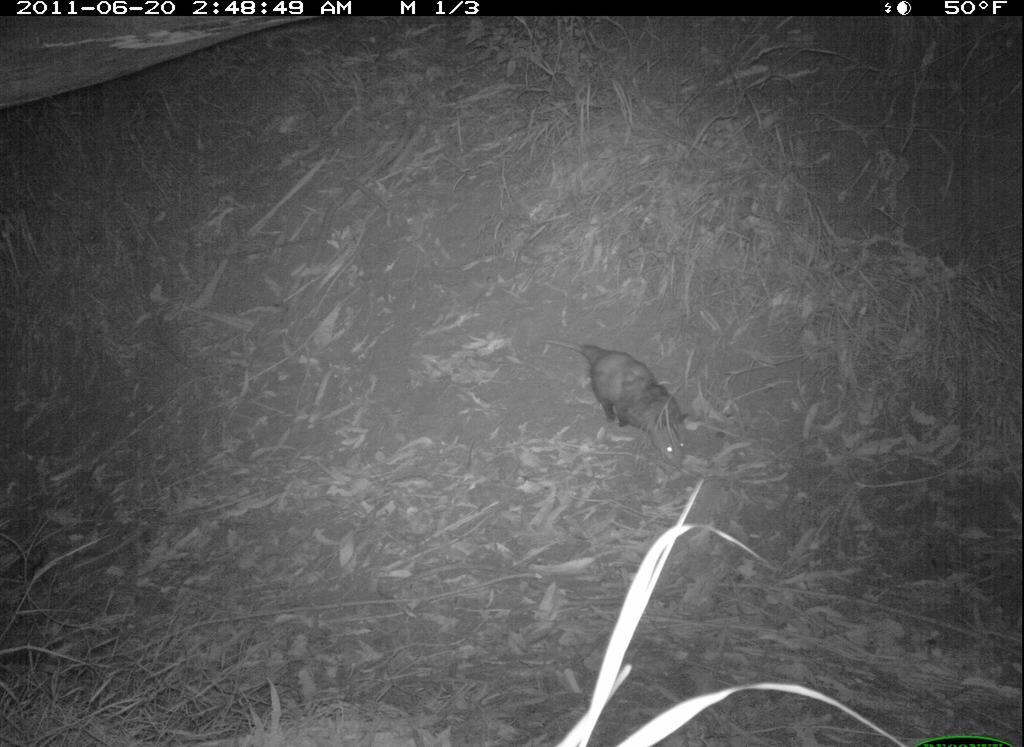opossum: (521, 322, 731, 493)
